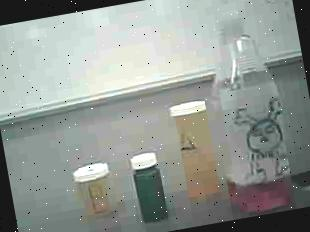Bottle A: (166, 97, 224, 204)
Bottle B: (69, 158, 122, 224)
Bottle C: (128, 148, 178, 226)
hazard: (192, 0, 307, 220)
